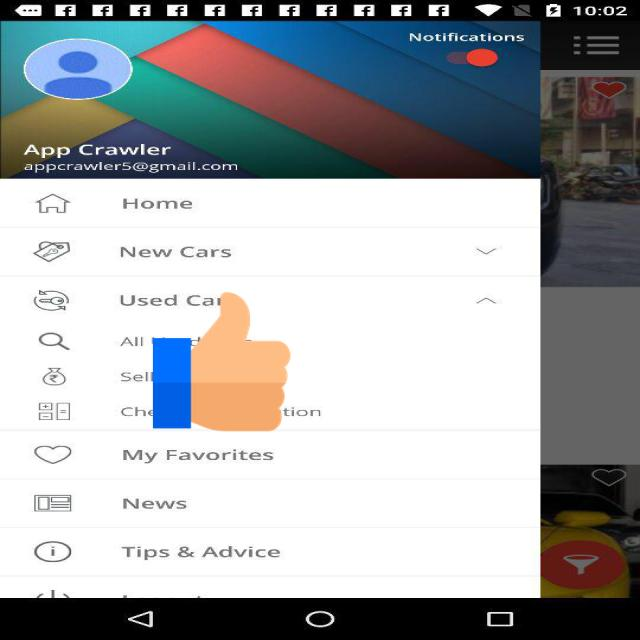privacy zuckering: (153, 288, 290, 434)
